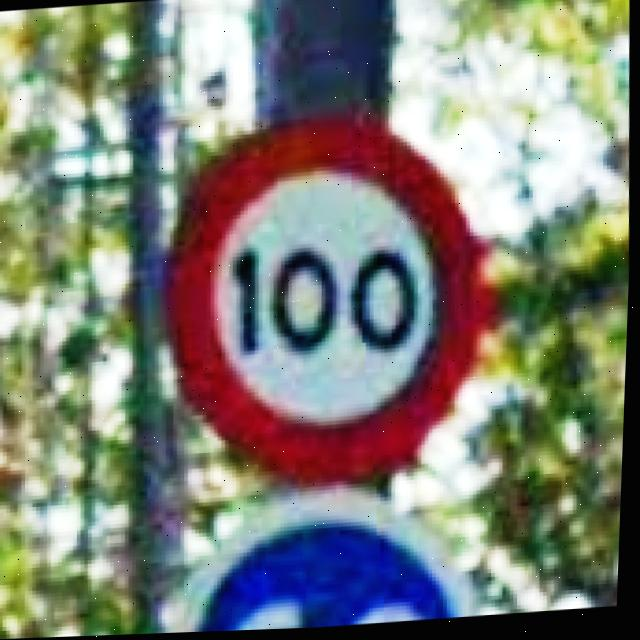max100: (148, 96, 514, 500)
